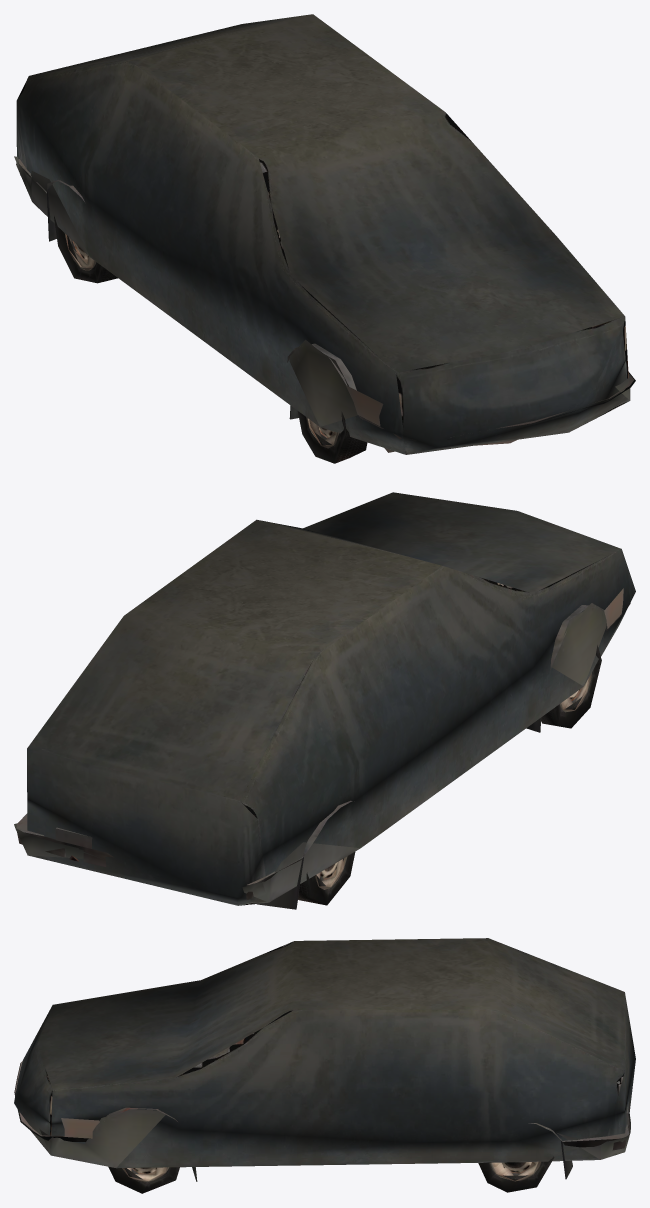
File: covered_car.glb
3 views of the same model, one above another, from view 1: azimuth 30°, elevation 25°; view 2: azimuth 150°, elevation 25°; view 3: azimuth 270°, elevation 25° (orthographic). The views are drawn at different scales.
Parts seen in each view (by area): view 1: covered_car, covered_car_wheel_02, covered_car_wheel_03; view 2: covered_car, covered_car_wheel_03, covered_car_wheel_02; view 3: covered_car, covered_car_wheel_04, covered_car_wheel_01.
Boxes of the visible parts, x1,y1,x2,y2 form: covered_car: (14,14,635,454); covered_car_wheel_02: (297,411,367,463); covered_car_wheel_03: (54,216,117,283); covered_car: (14,492,635,909); covered_car_wheel_03: (298,852,355,905); covered_car_wheel_02: (541,645,601,728); covered_car: (14,938,635,1181); covered_car_wheel_04: (478,1156,554,1192); covered_car_wheel_01: (108,1166,179,1193).
Size of the model in its own units: 1.75 by 1.33 by 4.34.
1 material, 1 textured.
